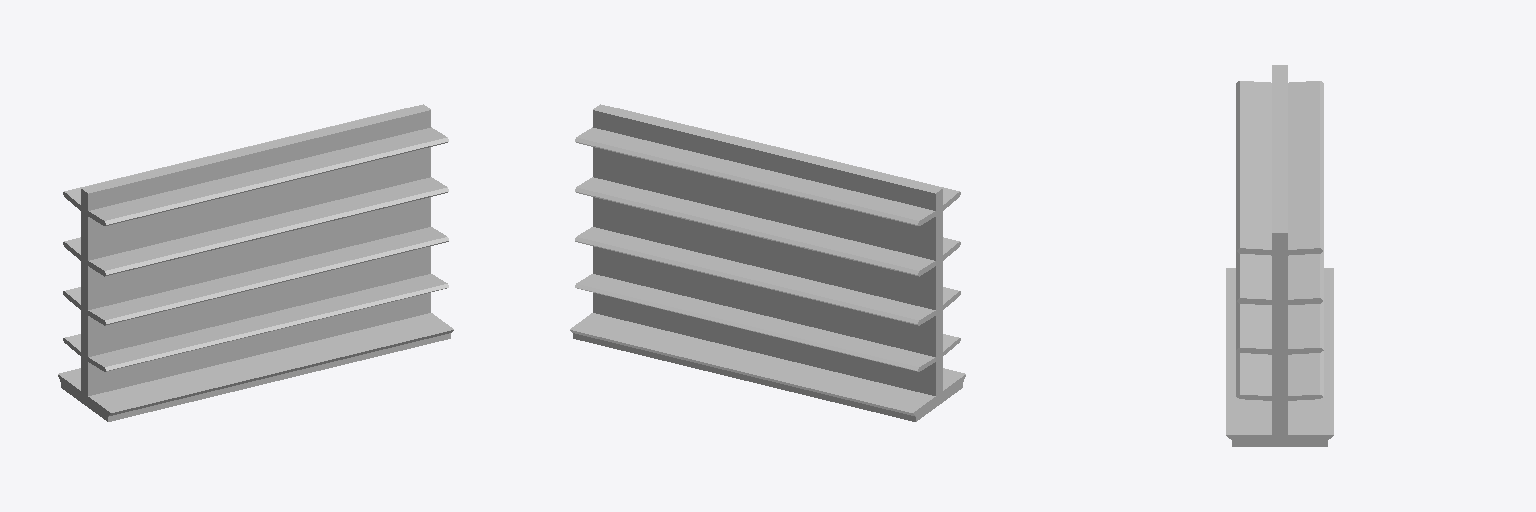
File: GeneralShelves(Double).obj
3 views of the same model, side by side, from view 1: azimuth 30°, elevation 25°; view 2: azimuth 150°, elevation 25°; view 3: azimuth 270°, elevation 25° (orthographic).
Visible parts, largest first — view 1: ShelfDouble; view 2: ShelfDouble; view 3: ShelfDouble.
Boxes of the visible parts, <box> form: ShelfDouble: <box>58,104,453,421</box>; ShelfDouble: <box>570,104,965,421</box>; ShelfDouble: <box>1226,65,1333,446</box>.
Bounding box in the file's own units: 15.59 × 9.3 × 4.25.